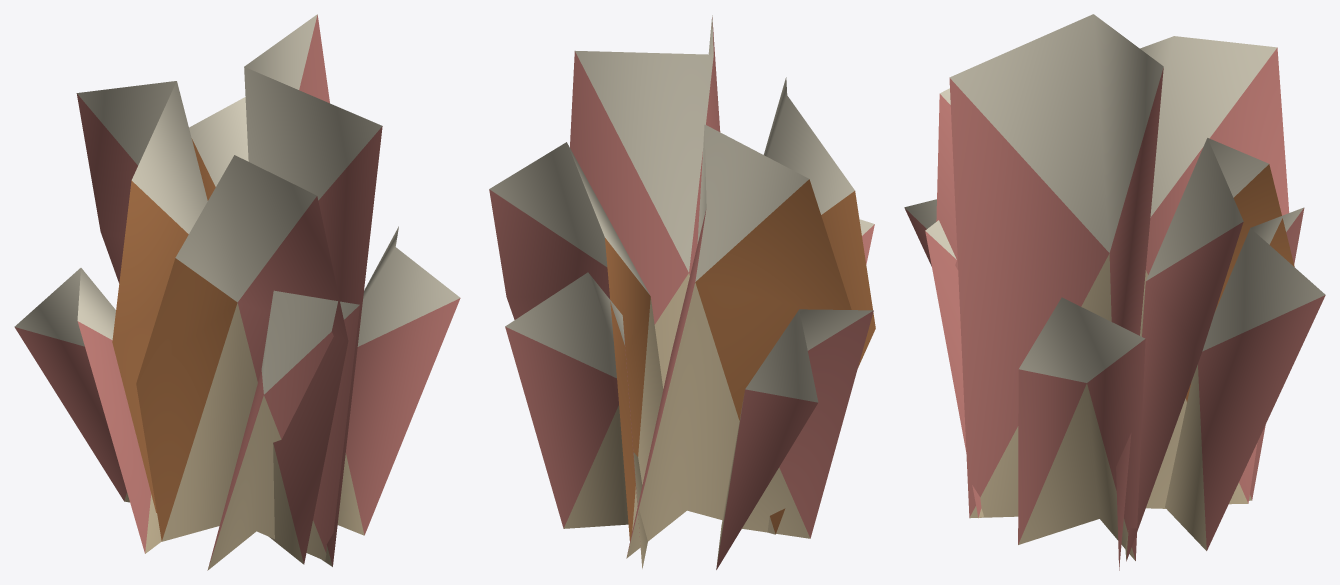
File: itch_assetquest_pond_long_grass_patch_1.glb
3 renders of one model, left to right at view 1: azimuth 30°, elevation 25°; view 2: azimuth 150°, elevation 25°; view 3: azimuth 270°, elevation 25°, orthographic. The views are drawn at different scales.
Parts seen in each view (by area): view 1: Long_Grass_Patch_1; view 2: Long_Grass_Patch_1; view 3: Long_Grass_Patch_1.
Part boxes in pixels (left/top/right/bottom): Long_Grass_Patch_1: left=14, top=14, right=460, bottom=570; Long_Grass_Patch_1: left=489, top=15, right=875, bottom=569; Long_Grass_Patch_1: left=904, top=14, right=1325, bottom=570.
Bounding box in the file's own units: 0.96 × 1.23 × 0.9556.
